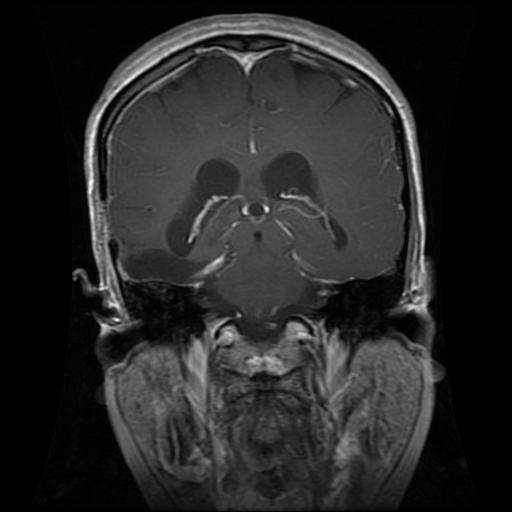glioma: (121, 245, 229, 285)
